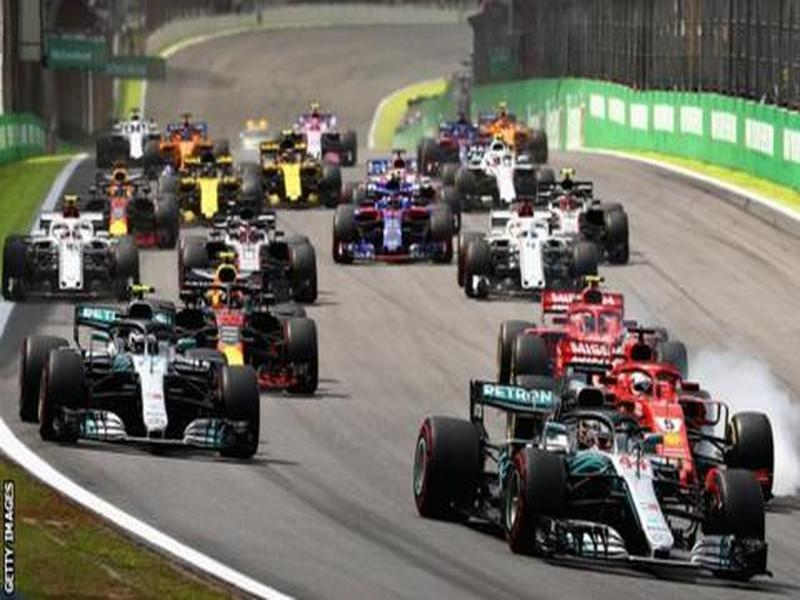f1: (407, 370, 744, 565), (18, 294, 272, 473), (491, 294, 697, 405), (1, 190, 154, 296), (331, 174, 460, 268), (176, 216, 326, 294), (467, 214, 603, 298), (244, 127, 341, 206)
